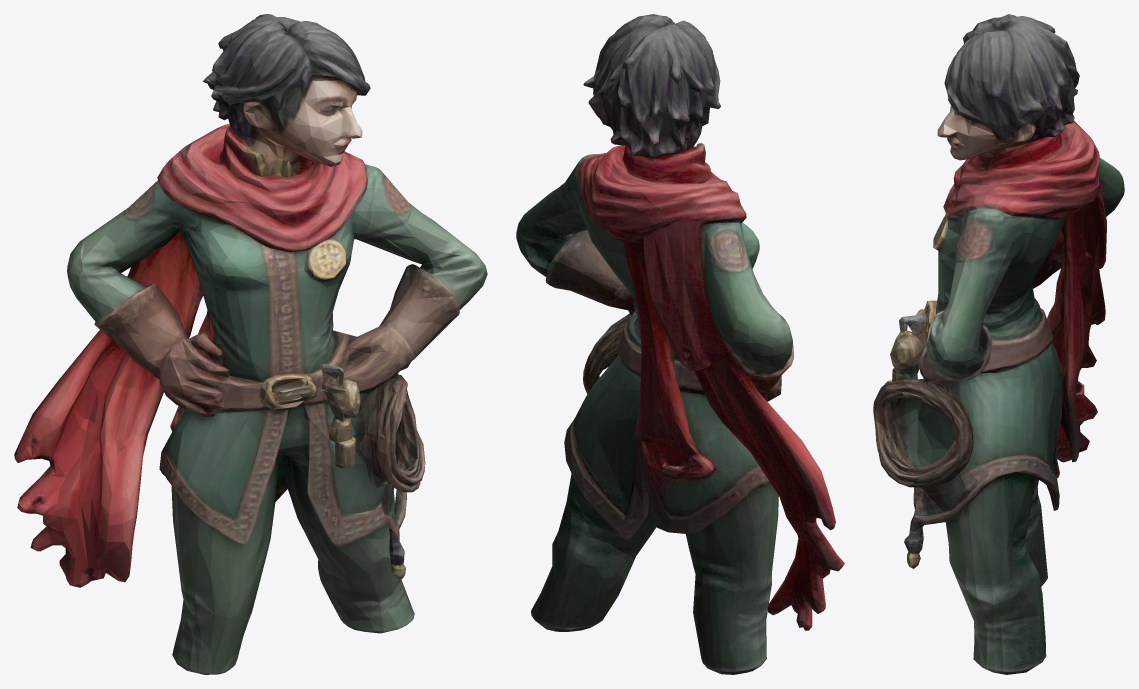
File: kessaVorn.glb
3 views of the same model, side by side, from view 1: azimuth 30°, elevation 25°; view 2: azimuth 150°, elevation 25°; view 3: azimuth 270°, elevation 25° (orthographic). The views are drawn at different scales.
Visible parts, largest first — view 1: world; view 2: world; view 3: world.
Boxes of the visible parts, x1,y1,x2,y2 form: world: (14, 14, 487, 674); world: (516, 14, 844, 674); world: (873, 14, 1124, 674).
Bounding box in the file's own units: 0.6644 × 0.9978 × 0.381.
Materials: 1 (1 with a texture image).
